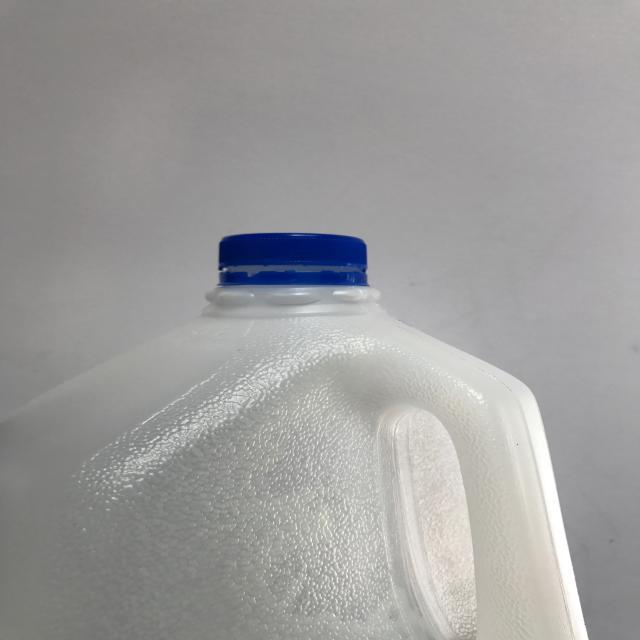plastic: (1, 222, 640, 640)
